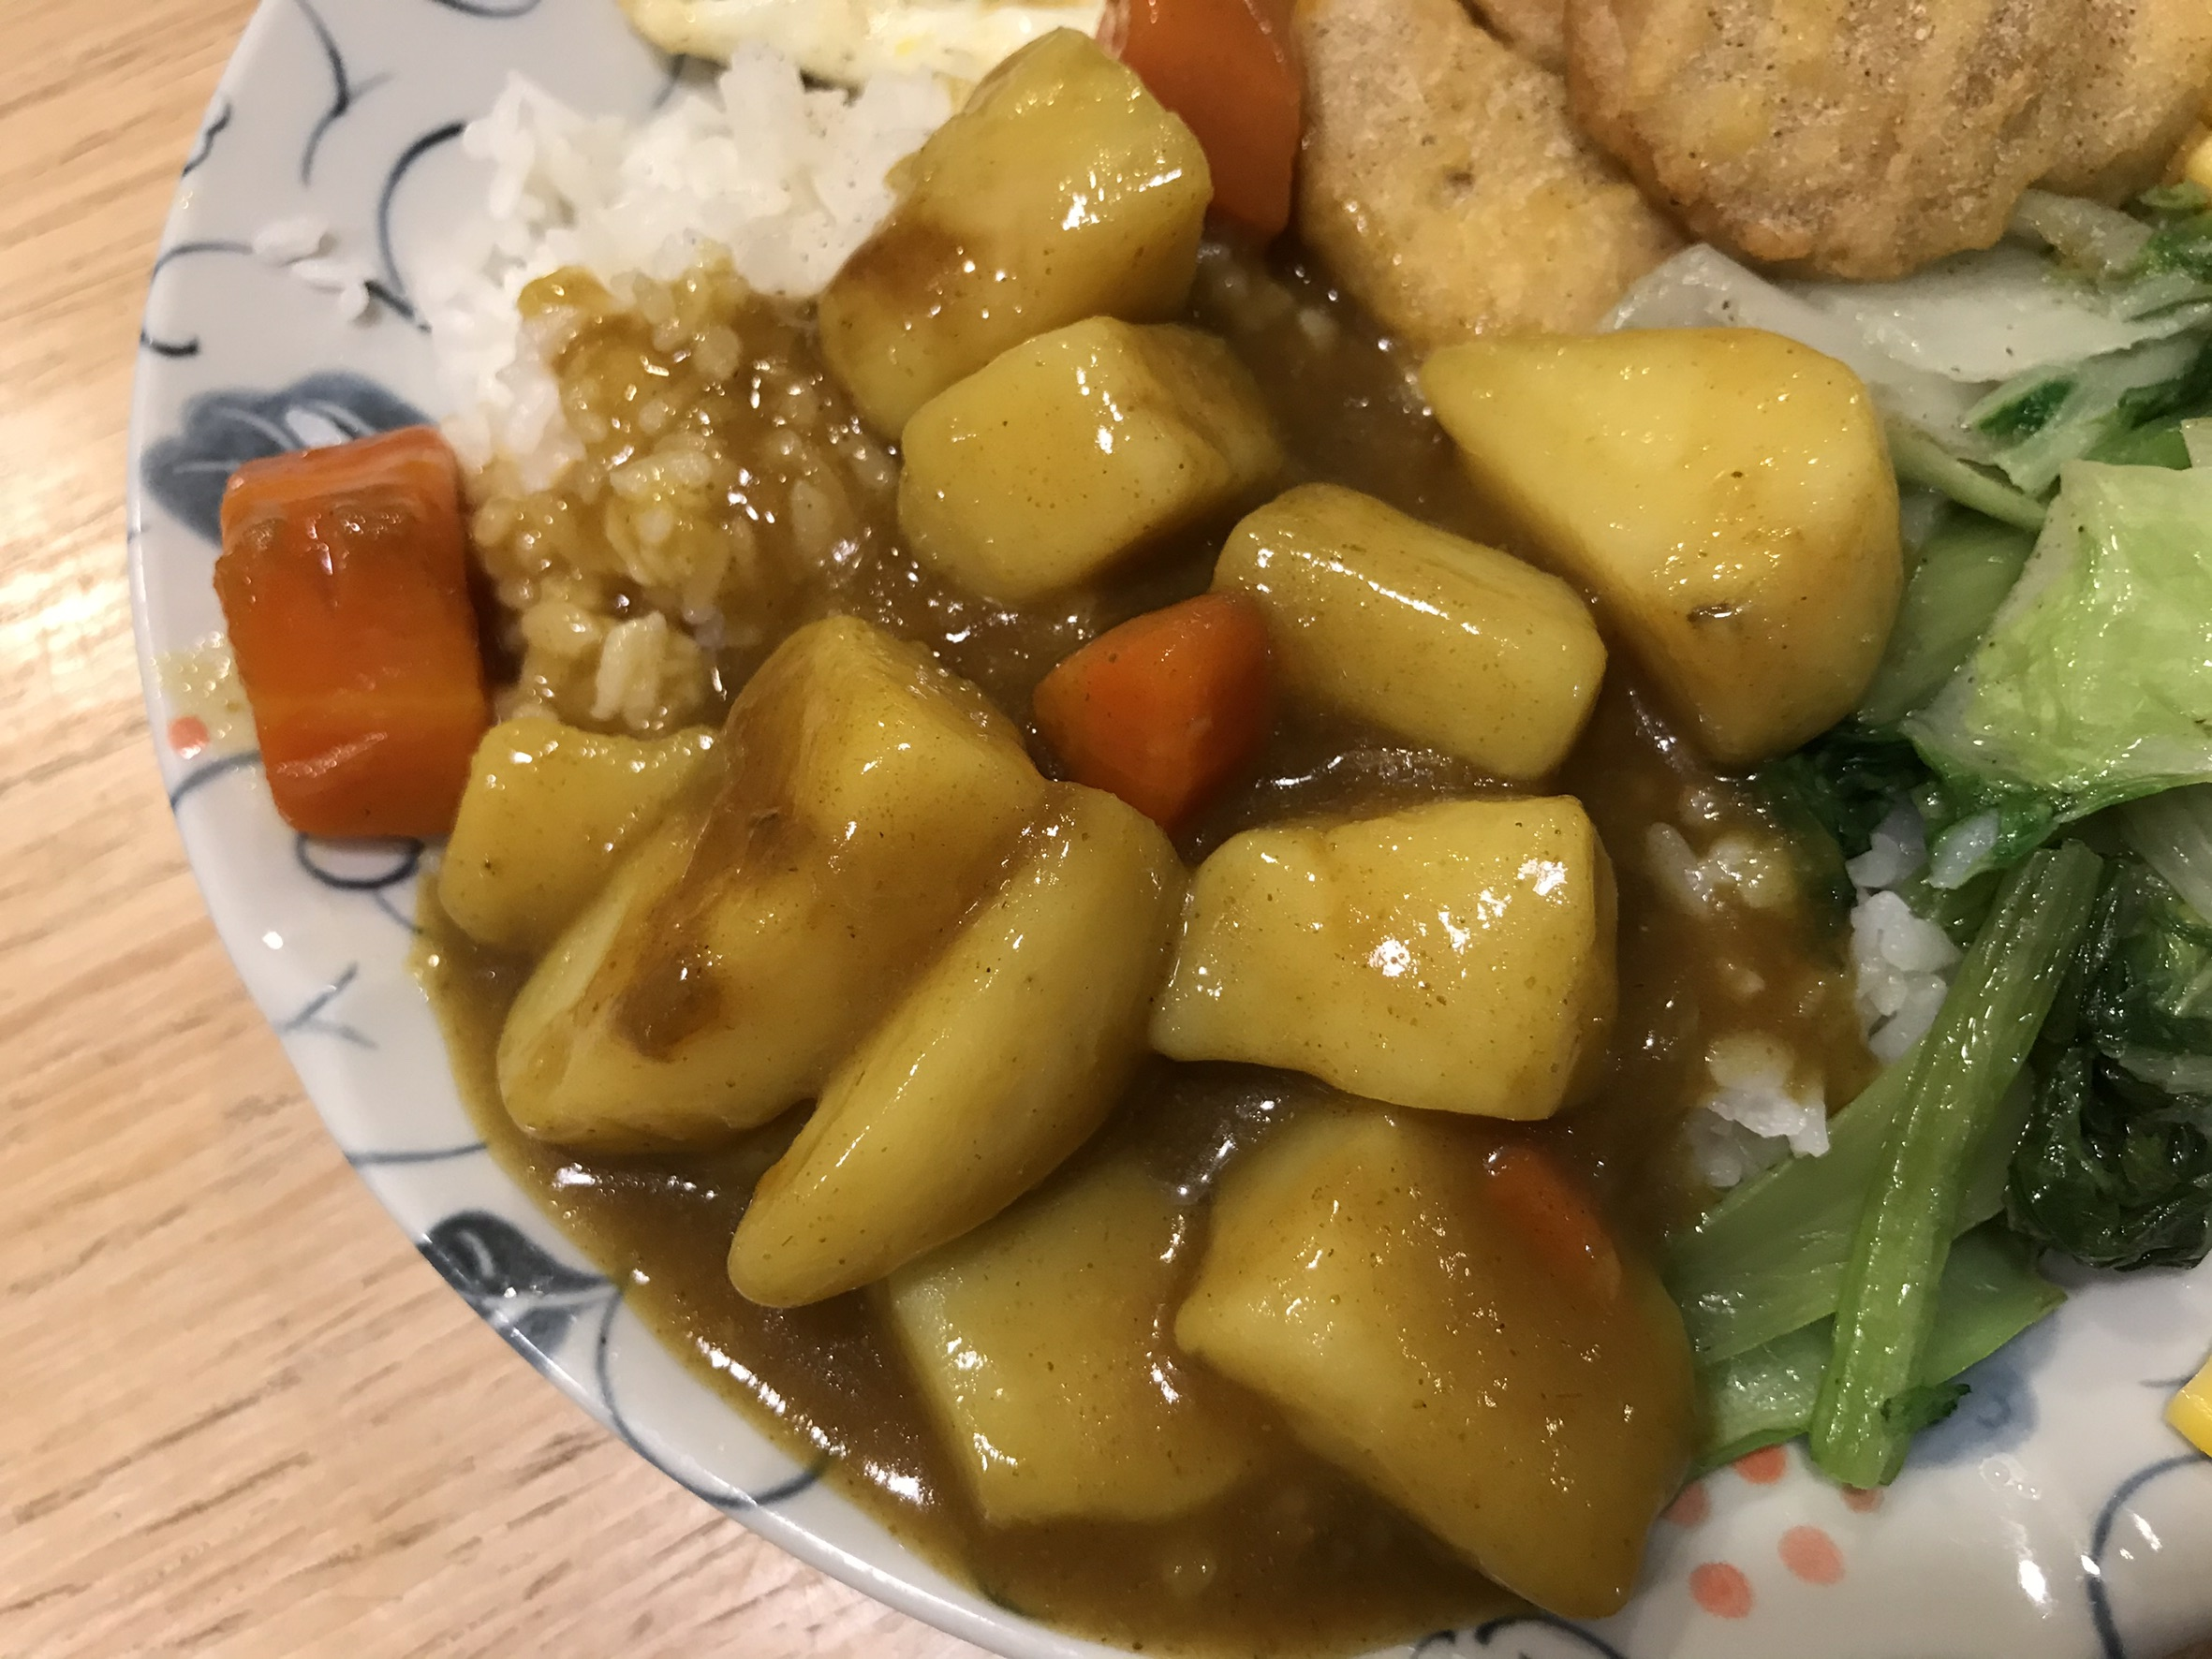chicken_nuggets: (1309, 2, 2212, 256)
curry: (373, 190, 1902, 1598)
